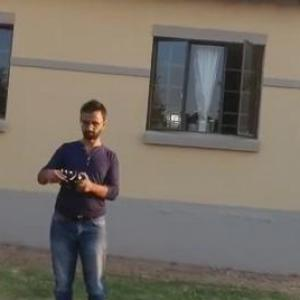follow: (28, 92, 128, 299)
